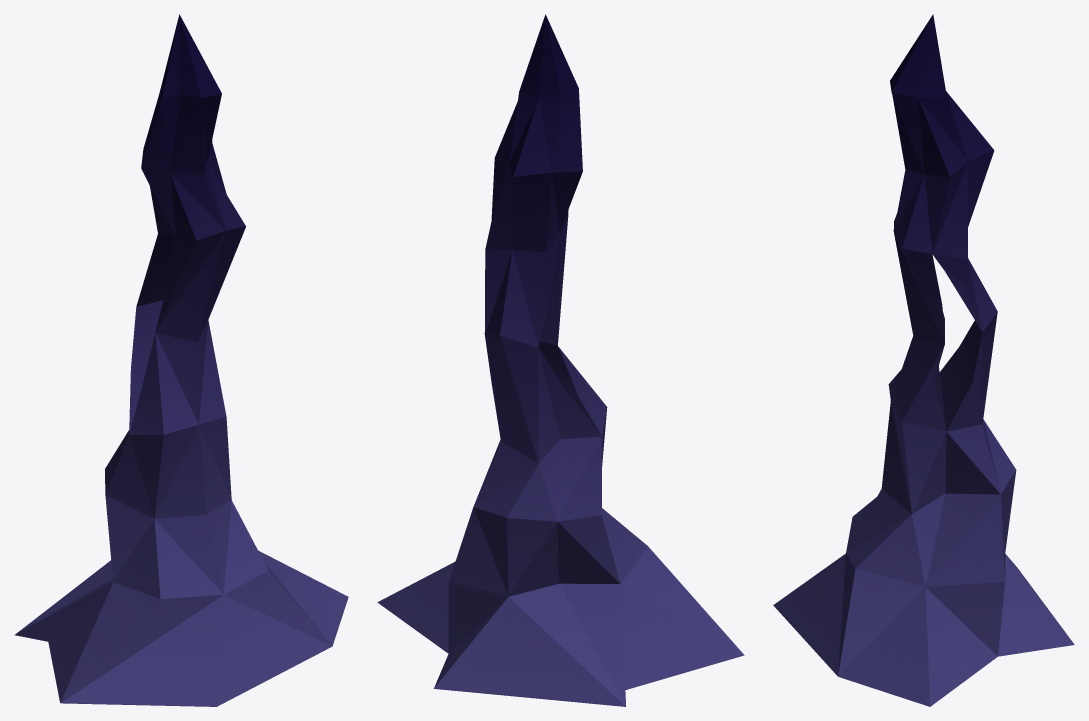
Rendered from MOD_Waypoint (9).fbx.
The picture shows the model from 3 angles, left to right: view 1: azimuth 30°, elevation 25°; view 2: azimuth 150°, elevation 25°; view 3: azimuth 270°, elevation 25°; orthographic projection. The views are drawn at different scales.
Visible parts, largest first — view 1: MOD_Waypoint9; view 2: MOD_Waypoint9; view 3: MOD_Waypoint9.
Part boxes in pixels (<box>): MOD_Waypoint9: <box>14,14,348,706</box>; MOD_Waypoint9: <box>377,14,744,706</box>; MOD_Waypoint9: <box>773,14,1074,706</box>.
Bounding box in the file's own units: 4.59 × 8.38 × 3.74.
